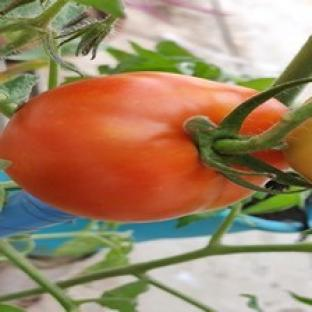Tomato: (0, 73, 256, 221), (283, 119, 311, 181)
